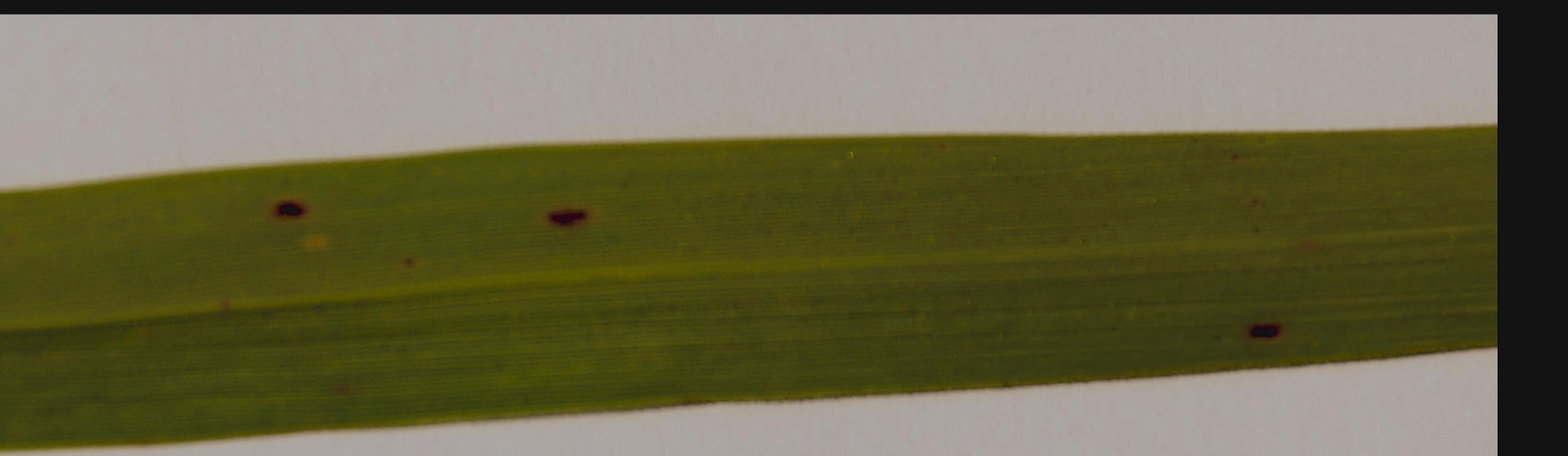Bacterial_Leaf_Blight: (522, 192, 607, 242), (1218, 298, 1291, 346), (259, 184, 313, 229)
